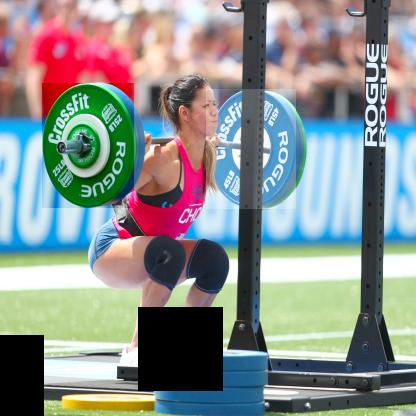barbell: (43, 84, 135, 209), (208, 91, 298, 211)
